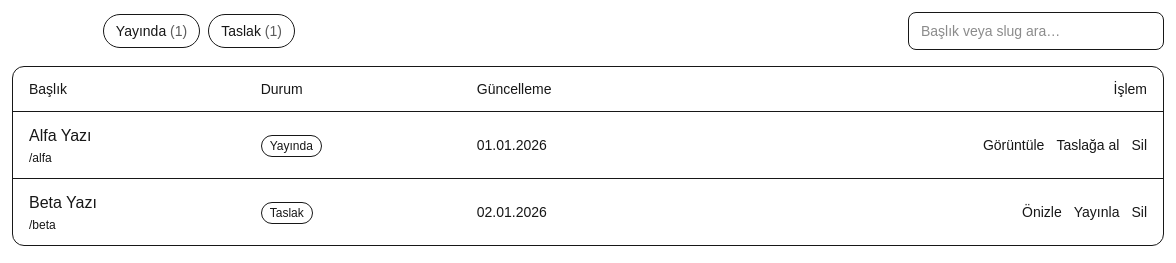
PostsTable › durum filtresi (Taslak) yalnızca taslakları gösterir
Click the button "Taslak (1)" at (252, 31), box [208,14,295,48]
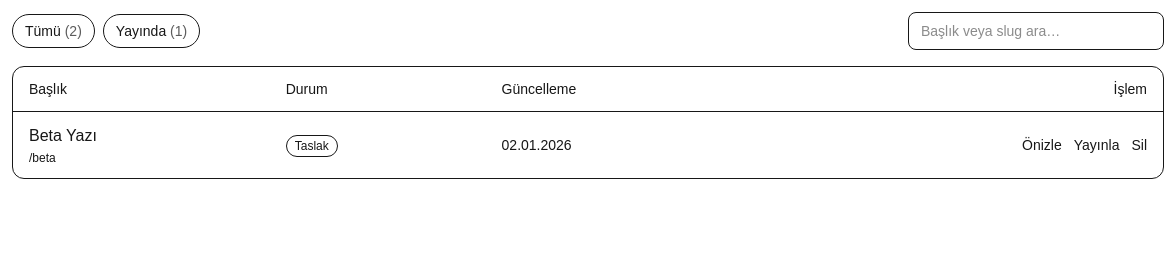
Check: the link "Beta Yazı" is shown, box [29,127,97,144]
Check: the link "Alfa Yazı" is gone
